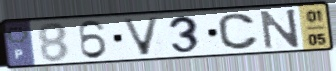3: (167, 13, 206, 55)
6: (76, 19, 110, 61)
8: (35, 20, 72, 63)
C: (216, 12, 262, 51)
N: (258, 7, 302, 51)
V: (120, 16, 163, 58)
